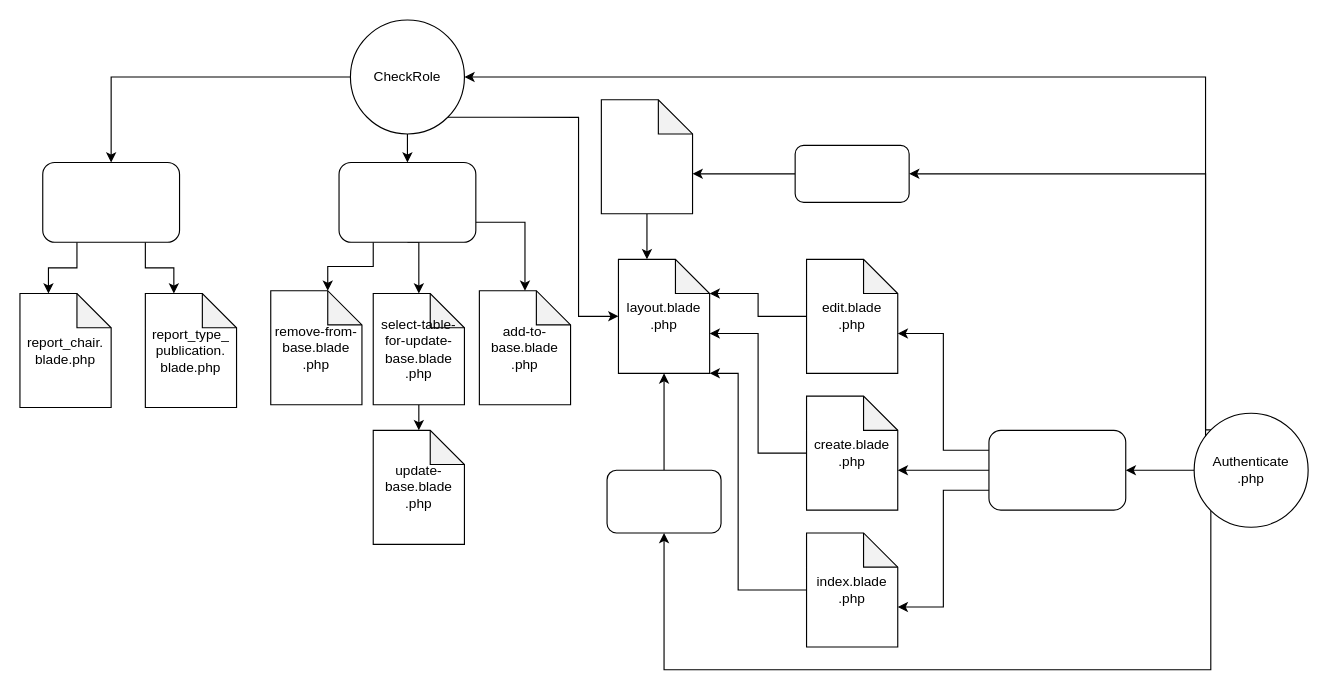
Image size: 1328x699. Some labels were removed from this diagram. Here are the shapes that lost their labels. From the top down, the centre of each, then its label:
At (646,156): "login.blade .php".
At (851,173): "LoginController .php".
At (111,201): "ReportController.php".
At (407,201): "AdditionsToBase Controller.php".
At (1057,469): "PublicationPlan Controller.php".
At (663,501): "LogoutController .php".
